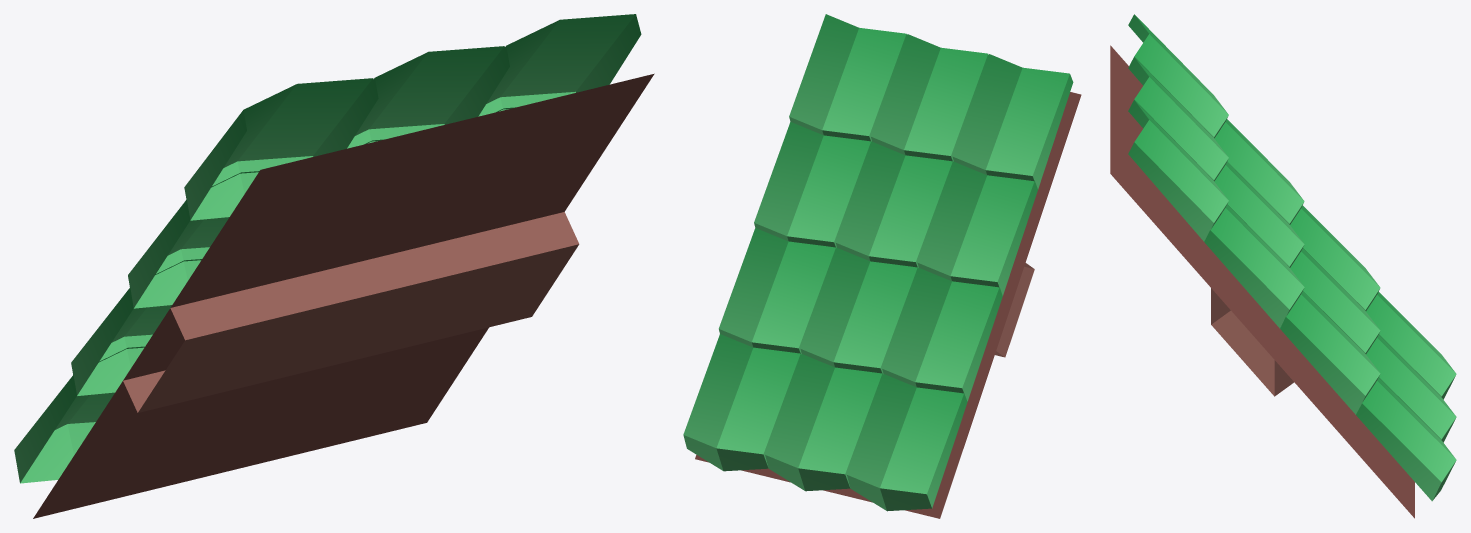
The model's file is RoofPlane_4.fbx.
3 views of the same model, side by side, from view 1: azimuth 30°, elevation 25°; view 2: azimuth 150°, elevation 25°; view 3: azimuth 270°, elevation 25° (orthographic). The views are drawn at different scales.
Parts seen in each view (by area): view 1: RoofPlane_4; view 2: RoofPlane_4; view 3: RoofPlane_4.
Boxes of the visible parts, bbox=[...] form: RoofPlane_4: bbox=[14, 14, 654, 518]; RoofPlane_4: bbox=[683, 14, 1081, 518]; RoofPlane_4: bbox=[1110, 14, 1456, 518].
Bounding box in the file's own units: 1.2 × 1.36 × 1.64.
